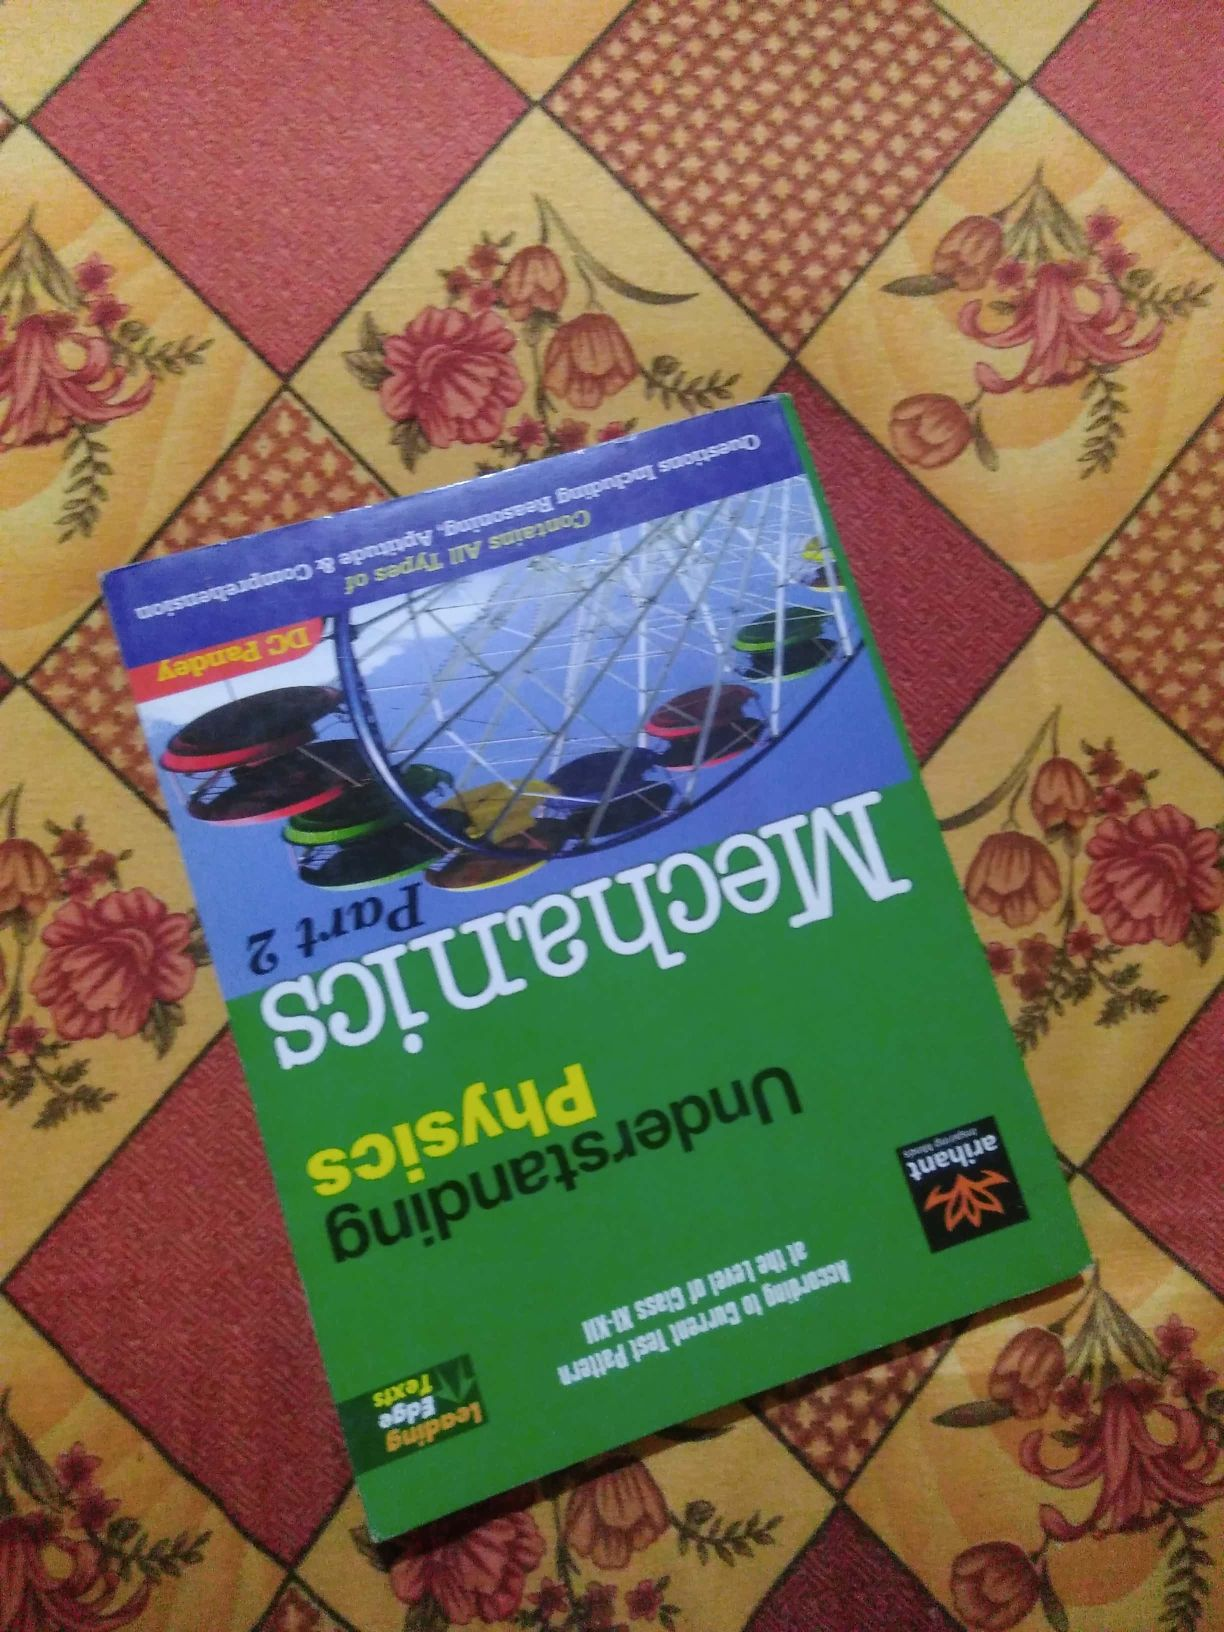mechanics: (69, 441, 1146, 1487)
